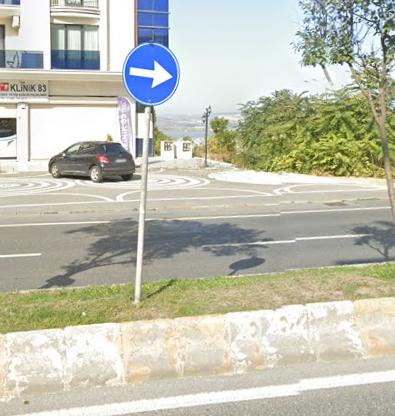turnright: (126, 44, 180, 102)
